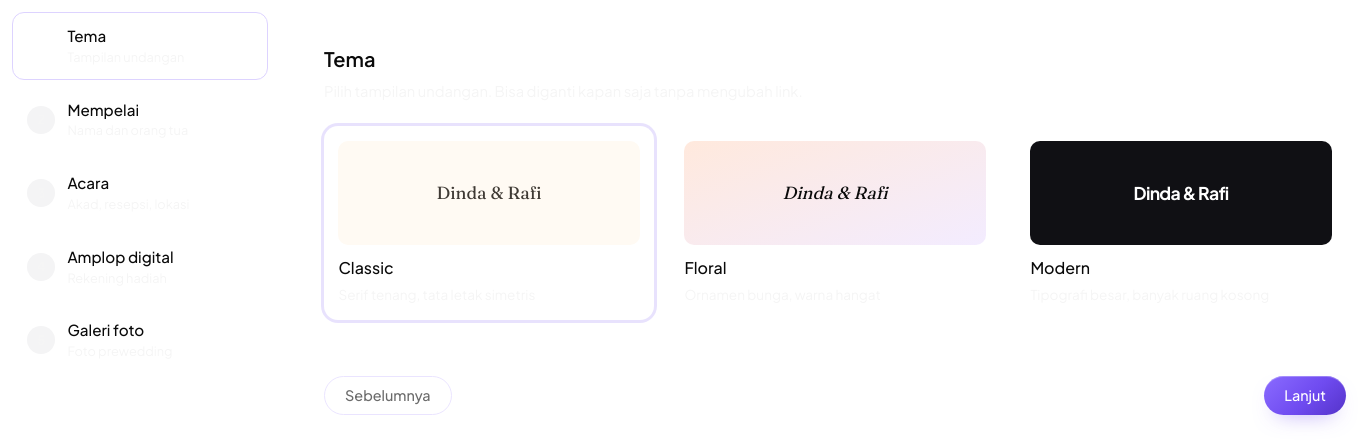
Scenario: BuilderWizard › saves and continues to the next step
This screenshot has width=1363, height=443.
Step 1. Click the button "Lanjut" → coordinates (1305, 395), box x1=1264 y1=376 x2=1346 y2=415
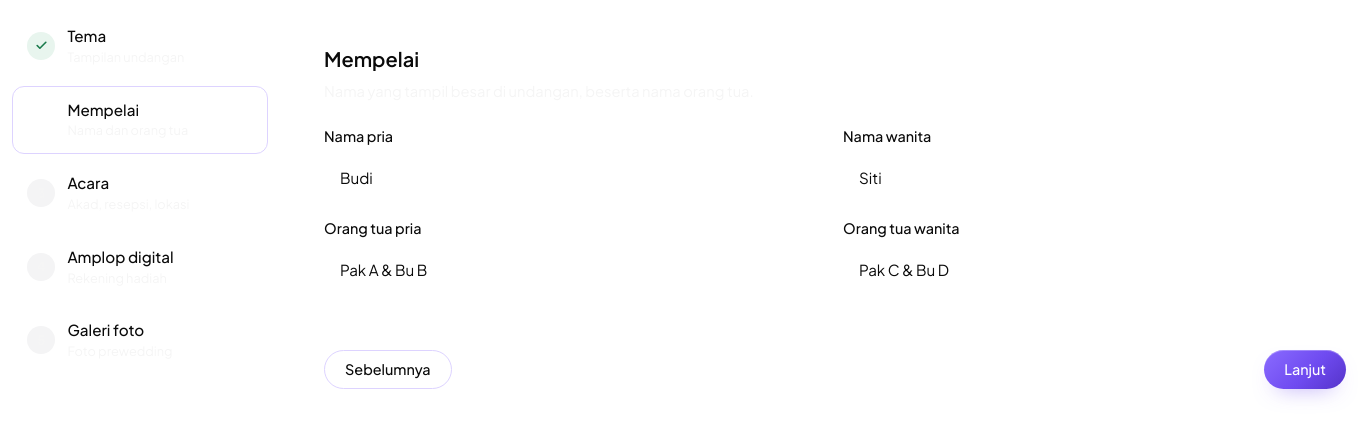
Expected: the button "Lanjut" is enabled, x1=1264 y1=350 x2=1346 y2=389
Now the heading "Mempelai" is shown, box x1=324 y1=46 x2=419 y2=71
